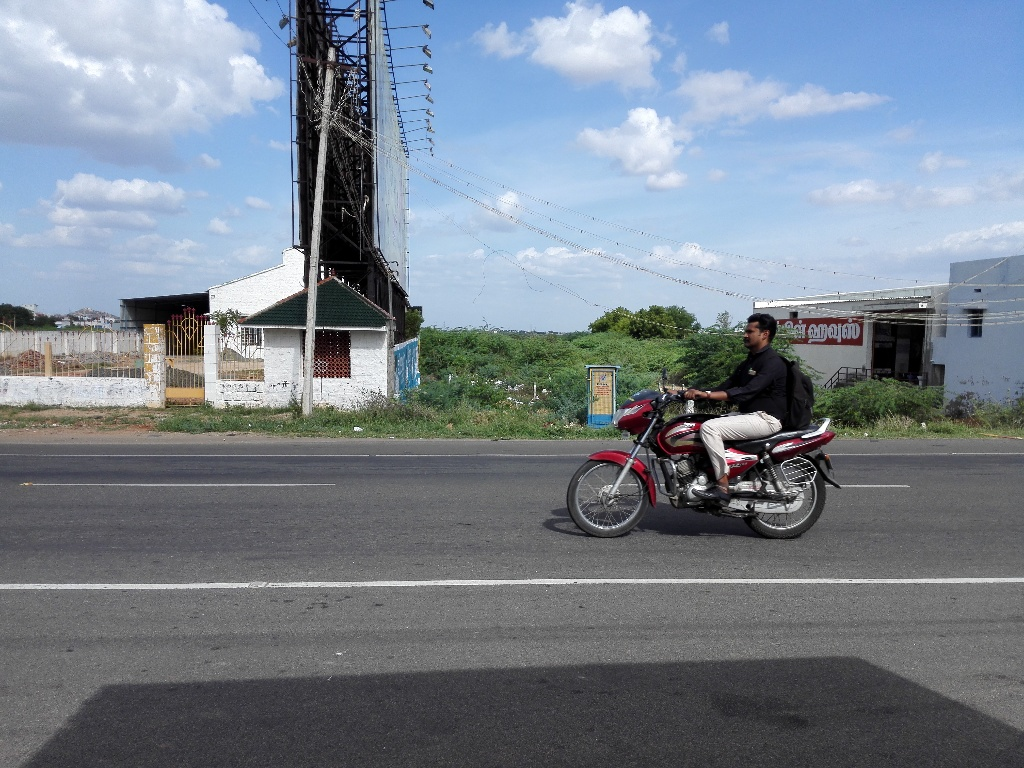biker: (549, 280, 863, 550)
nohelmet: (736, 298, 781, 360)
